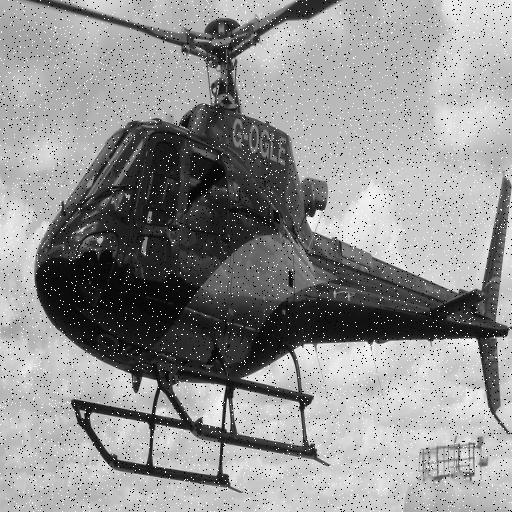helicopter: (11, 1, 512, 504)
